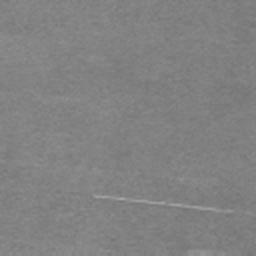Finishing roll printing: (91, 193, 238, 214)
